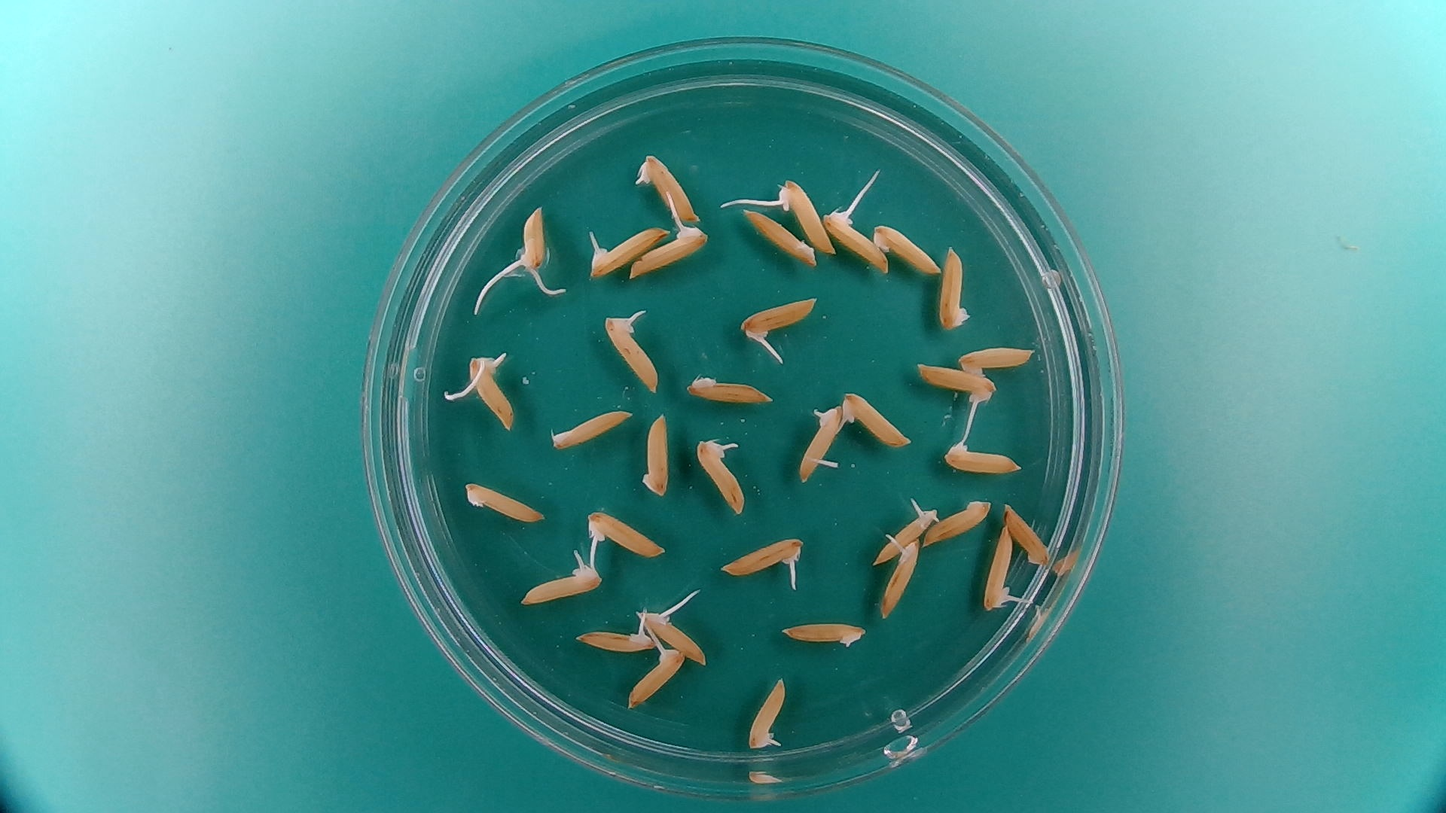no: (739, 206, 821, 268), (547, 403, 636, 454), (922, 494, 993, 549), (872, 223, 944, 276), (462, 483, 548, 526), (681, 369, 776, 407), (1002, 499, 1053, 568), (937, 242, 973, 333), (778, 615, 868, 651), (638, 409, 672, 499), (940, 441, 1024, 477), (956, 345, 1038, 373)
yes: (736, 291, 822, 355), (583, 219, 669, 280), (602, 314, 664, 397), (692, 432, 750, 517), (626, 223, 710, 281), (778, 177, 837, 257), (837, 387, 913, 449), (824, 206, 891, 274), (623, 641, 688, 710), (639, 602, 710, 665), (584, 506, 668, 559), (640, 155, 703, 225), (794, 400, 845, 485), (872, 501, 938, 565), (911, 358, 996, 405), (469, 350, 517, 429), (520, 563, 606, 606), (877, 539, 922, 621), (718, 537, 807, 577), (979, 522, 1017, 613), (746, 677, 787, 753), (574, 629, 656, 655), (517, 209, 551, 271)
